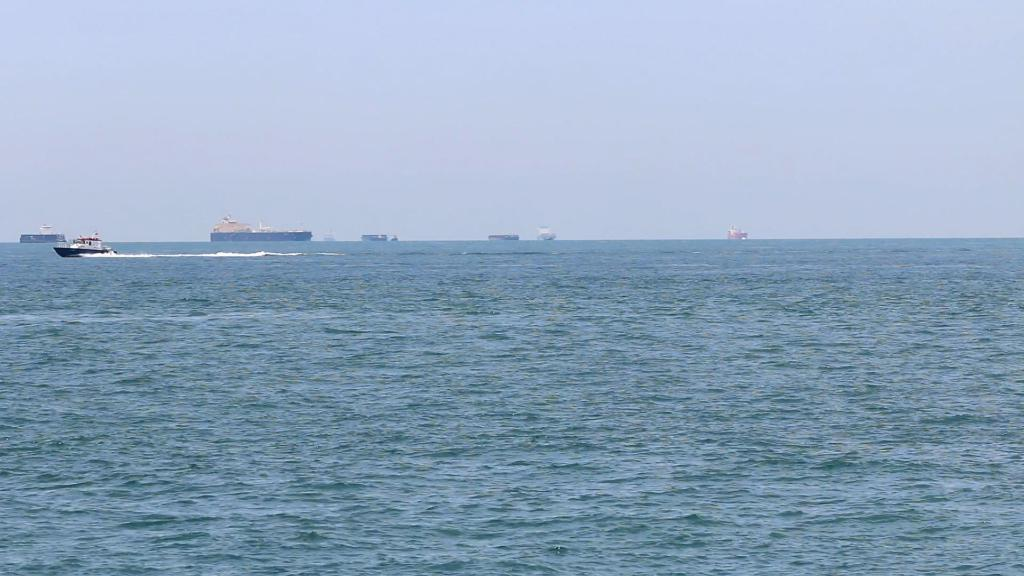PassengerShip: (54, 231, 120, 257), (388, 232, 400, 240)
